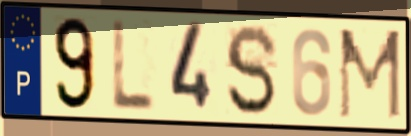4: (167, 18, 220, 117)
6: (290, 26, 333, 118)
9: (50, 14, 99, 113)
L: (110, 18, 159, 113)
M: (336, 26, 403, 122)
S: (223, 21, 281, 119)
